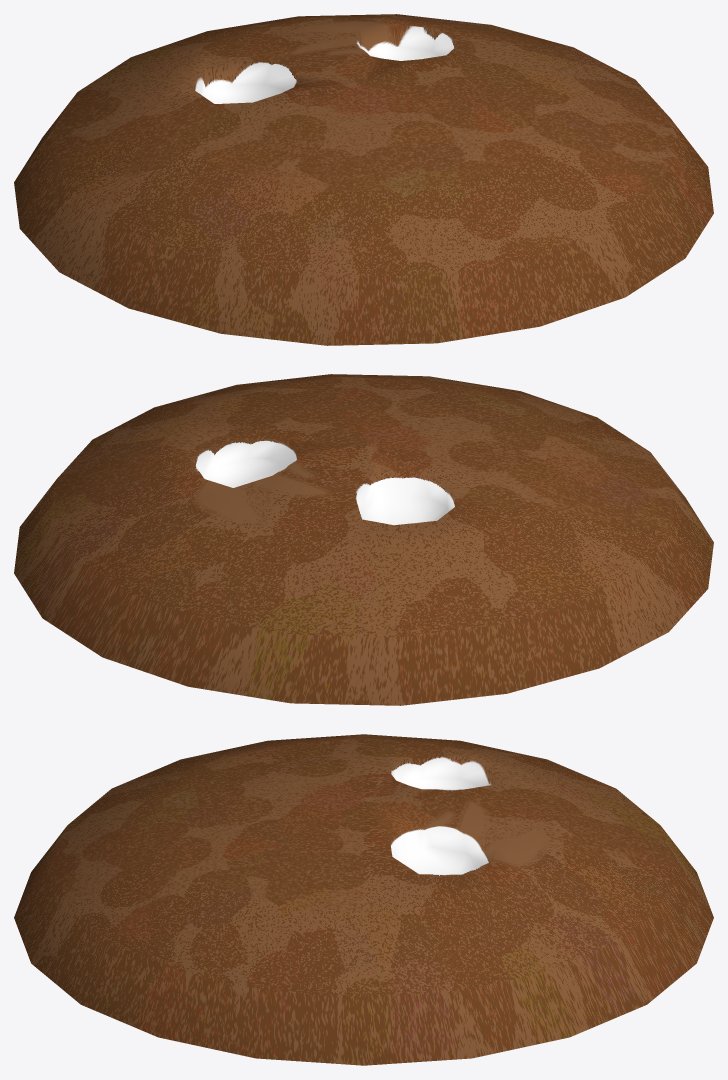
Rendered from bud.fbx.
The picture shows the model from 3 angles, top to bottom: view 1: azimuth 30°, elevation 25°; view 2: azimuth 150°, elevation 25°; view 3: azimuth 270°, elevation 25°; orthographic projection.
Visible parts, largest first — view 1: bud; view 2: bud; view 3: bud.
Boxes of the visible parts, left/top/right/bottom form: bud: left=14, top=14, right=713, bottom=345; bud: left=14, top=374, right=713, bottom=705; bud: left=14, top=734, right=713, bottom=1065.
Size of the model in its own units: 159 by 28.49 by 159.
